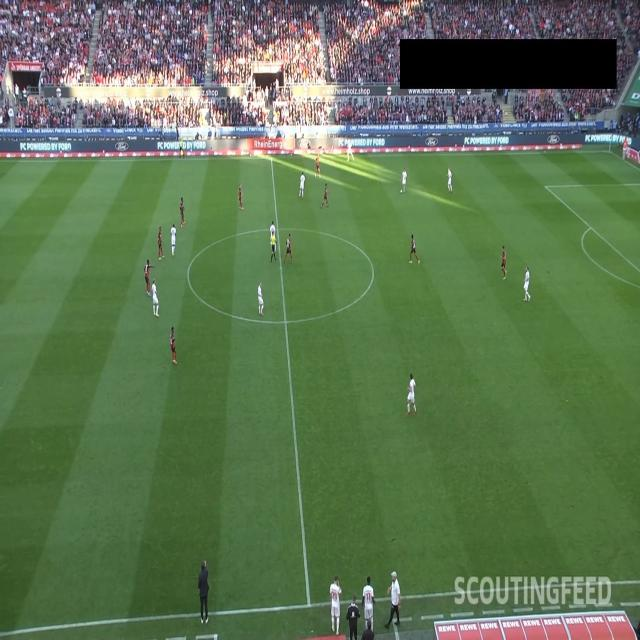ball: (400, 188, 403, 194)
